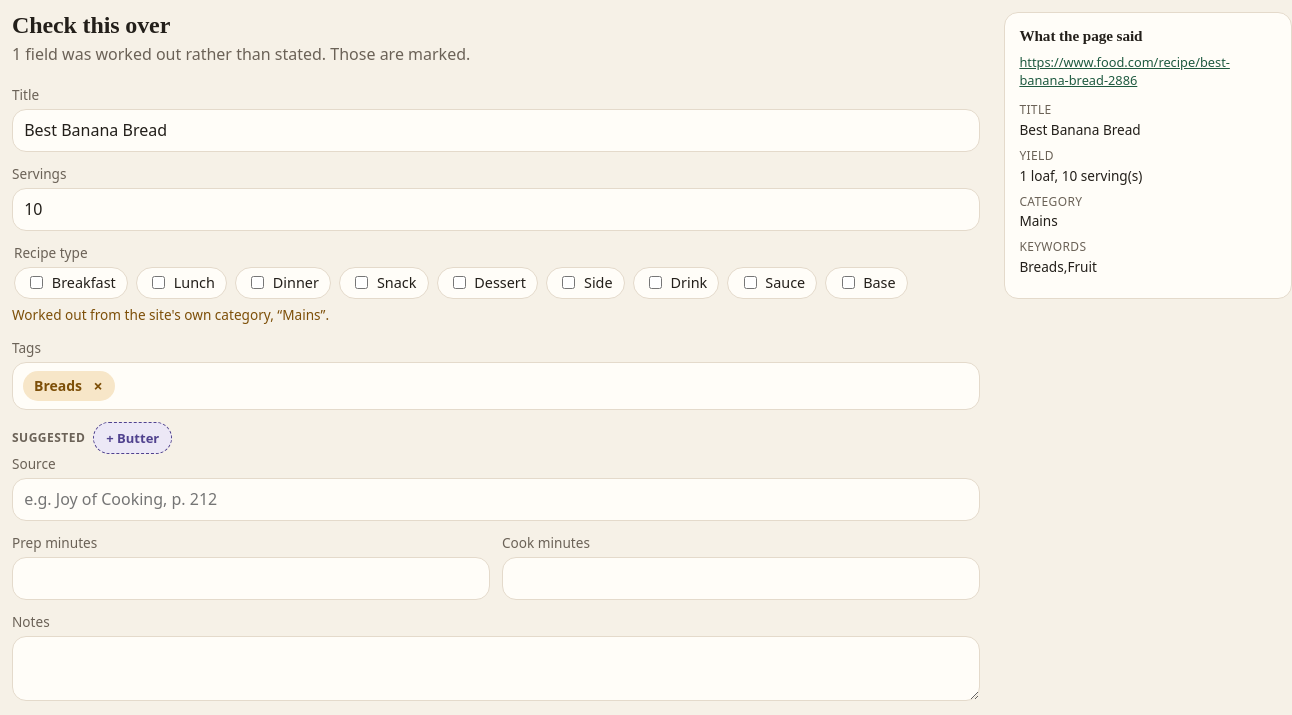
editing a flagged field clears its flag › clears the meal-type flag once the cook picks one
The width and height of the screenshot is (1292, 715).
Expected: the text "Worked out from the site's own category, “Mains”." is shown, [12,305,329,324]
Click the checkbox labelled "dinner". click: click(258, 283)
box: [251,276,264,289]
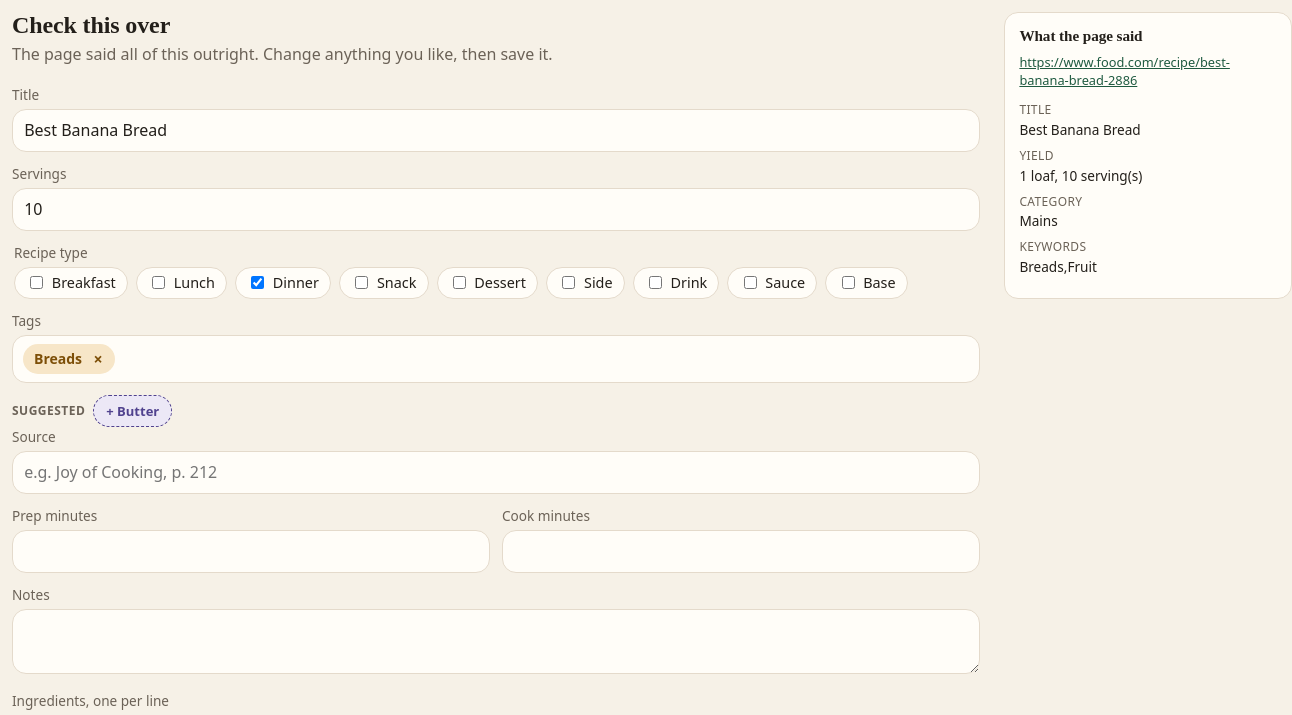
Expected: the text "Worked out from the site" is gone
